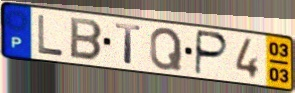4: (234, 38, 262, 81)
B: (69, 16, 106, 63)
L: (36, 13, 65, 58)
P: (193, 28, 231, 77)
Q: (149, 26, 184, 72)
T: (113, 22, 143, 67)
